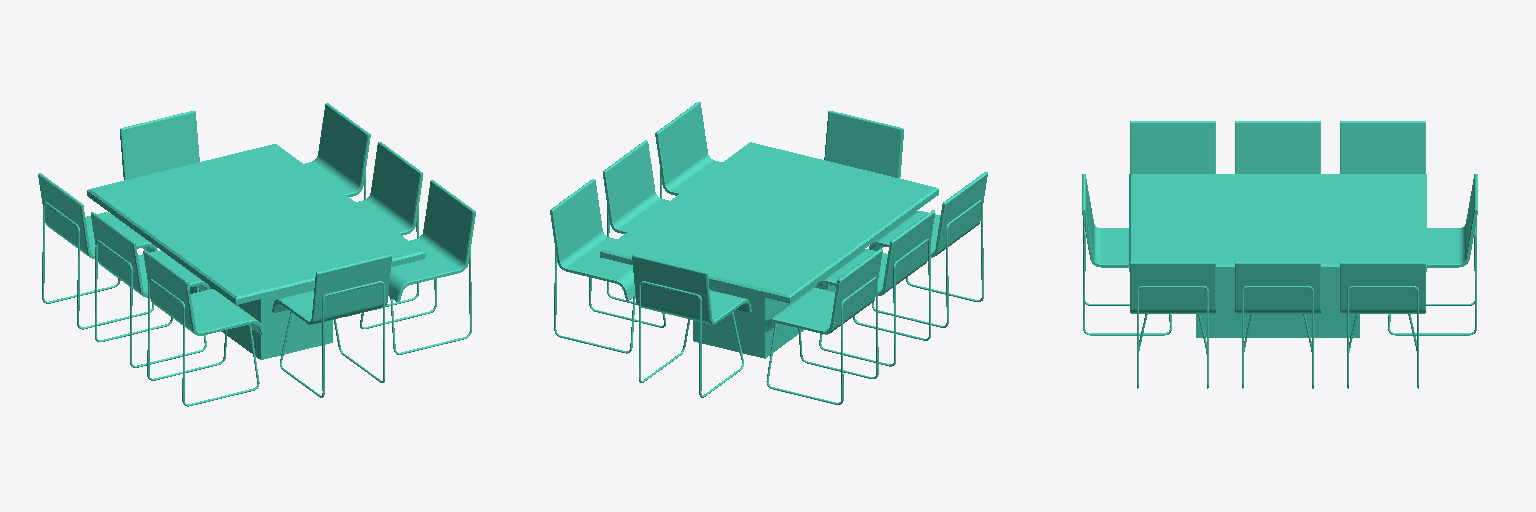
File: table_wood.obj
3 renders of one model, left to right at view 1: azimuth 30°, elevation 25°; view 2: azimuth 150°, elevation 25°; view 3: azimuth 270°, elevation 25°, orthographic.
Parts seen in each view (by area): view 1: Layer0_001; view 2: Layer0_001; view 3: Layer0_001.
Part boxes in pixels (bbox=[...]): Layer0_001: bbox=[38, 103, 475, 406]; Layer0_001: bbox=[550, 102, 987, 404]; Layer0_001: bbox=[1082, 121, 1477, 388].
Bounding box in the file's own units: 2491 × 1059 × 2941.